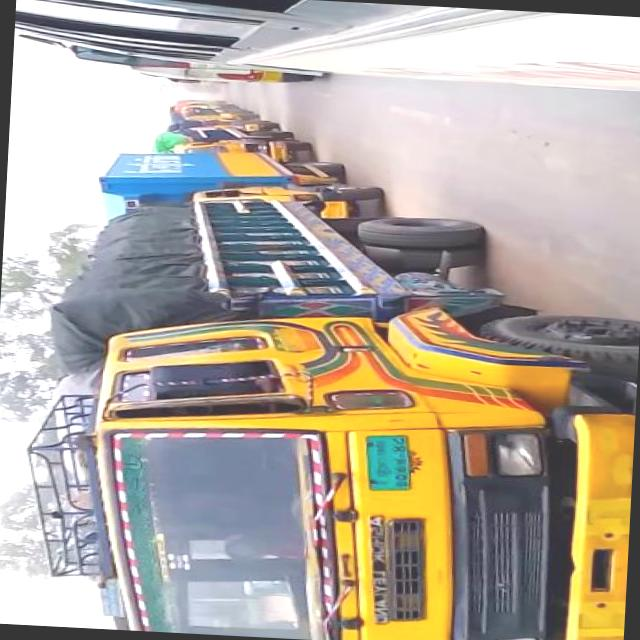bus: (126, 56, 310, 88)
truck: (16, 184, 640, 640), (95, 142, 382, 238), (152, 119, 320, 162)
